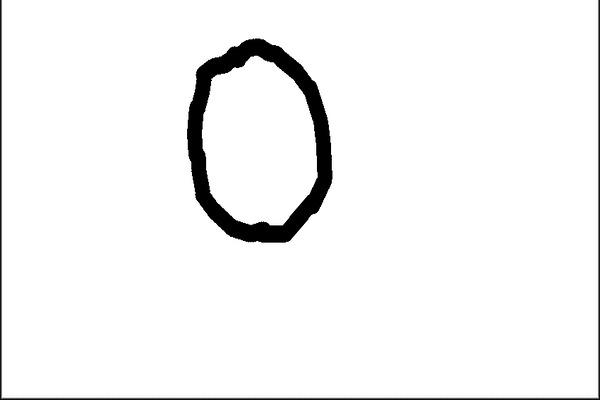O: (175, 28, 343, 254)
